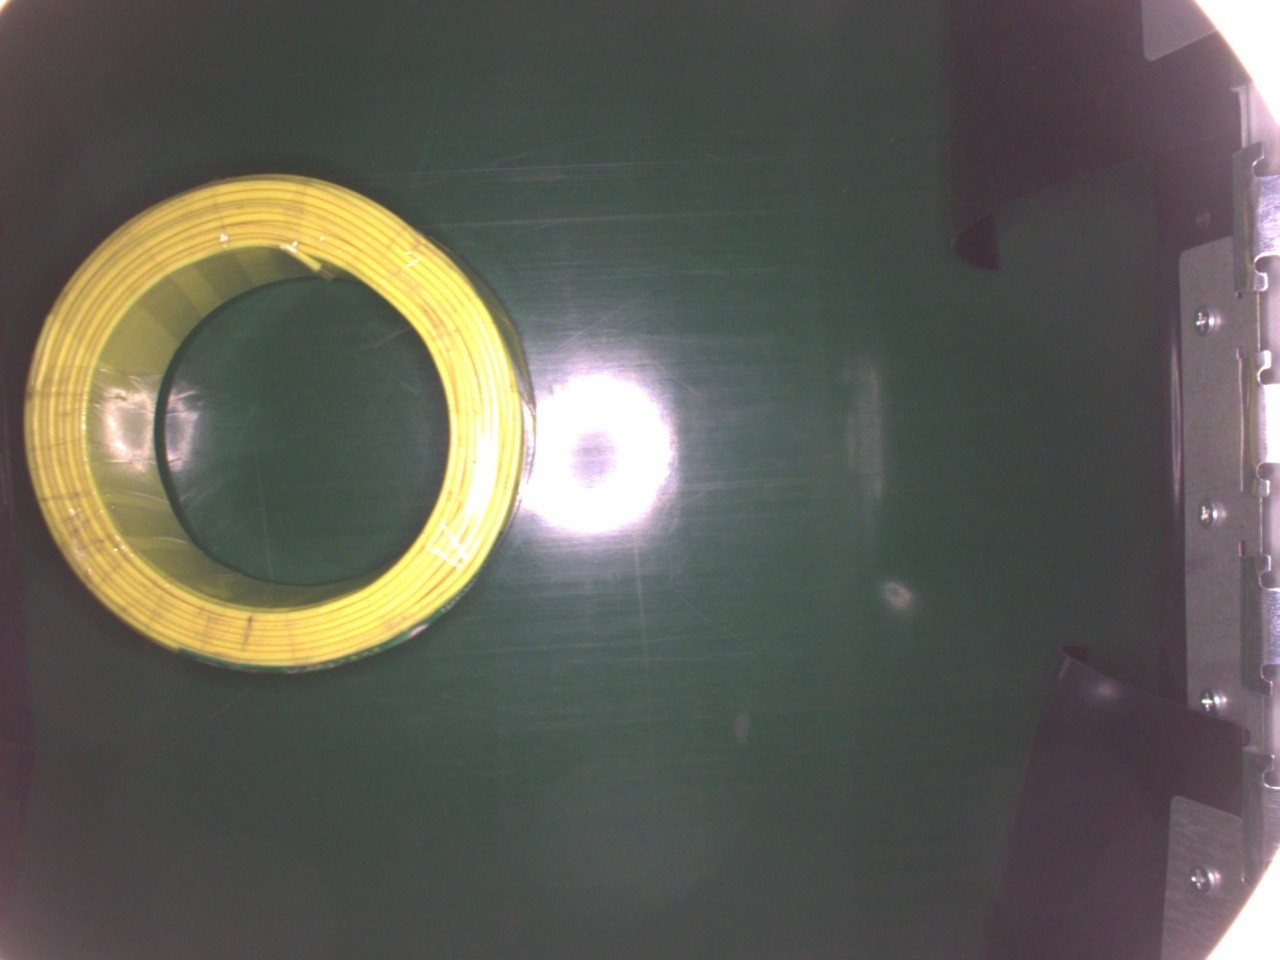yellow: (21, 170, 536, 677)
